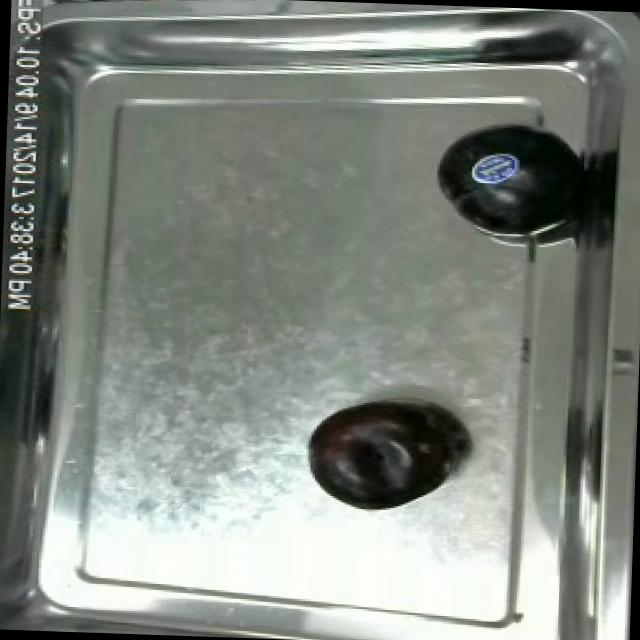Fruit: (422, 114, 592, 244), (299, 390, 459, 514)
